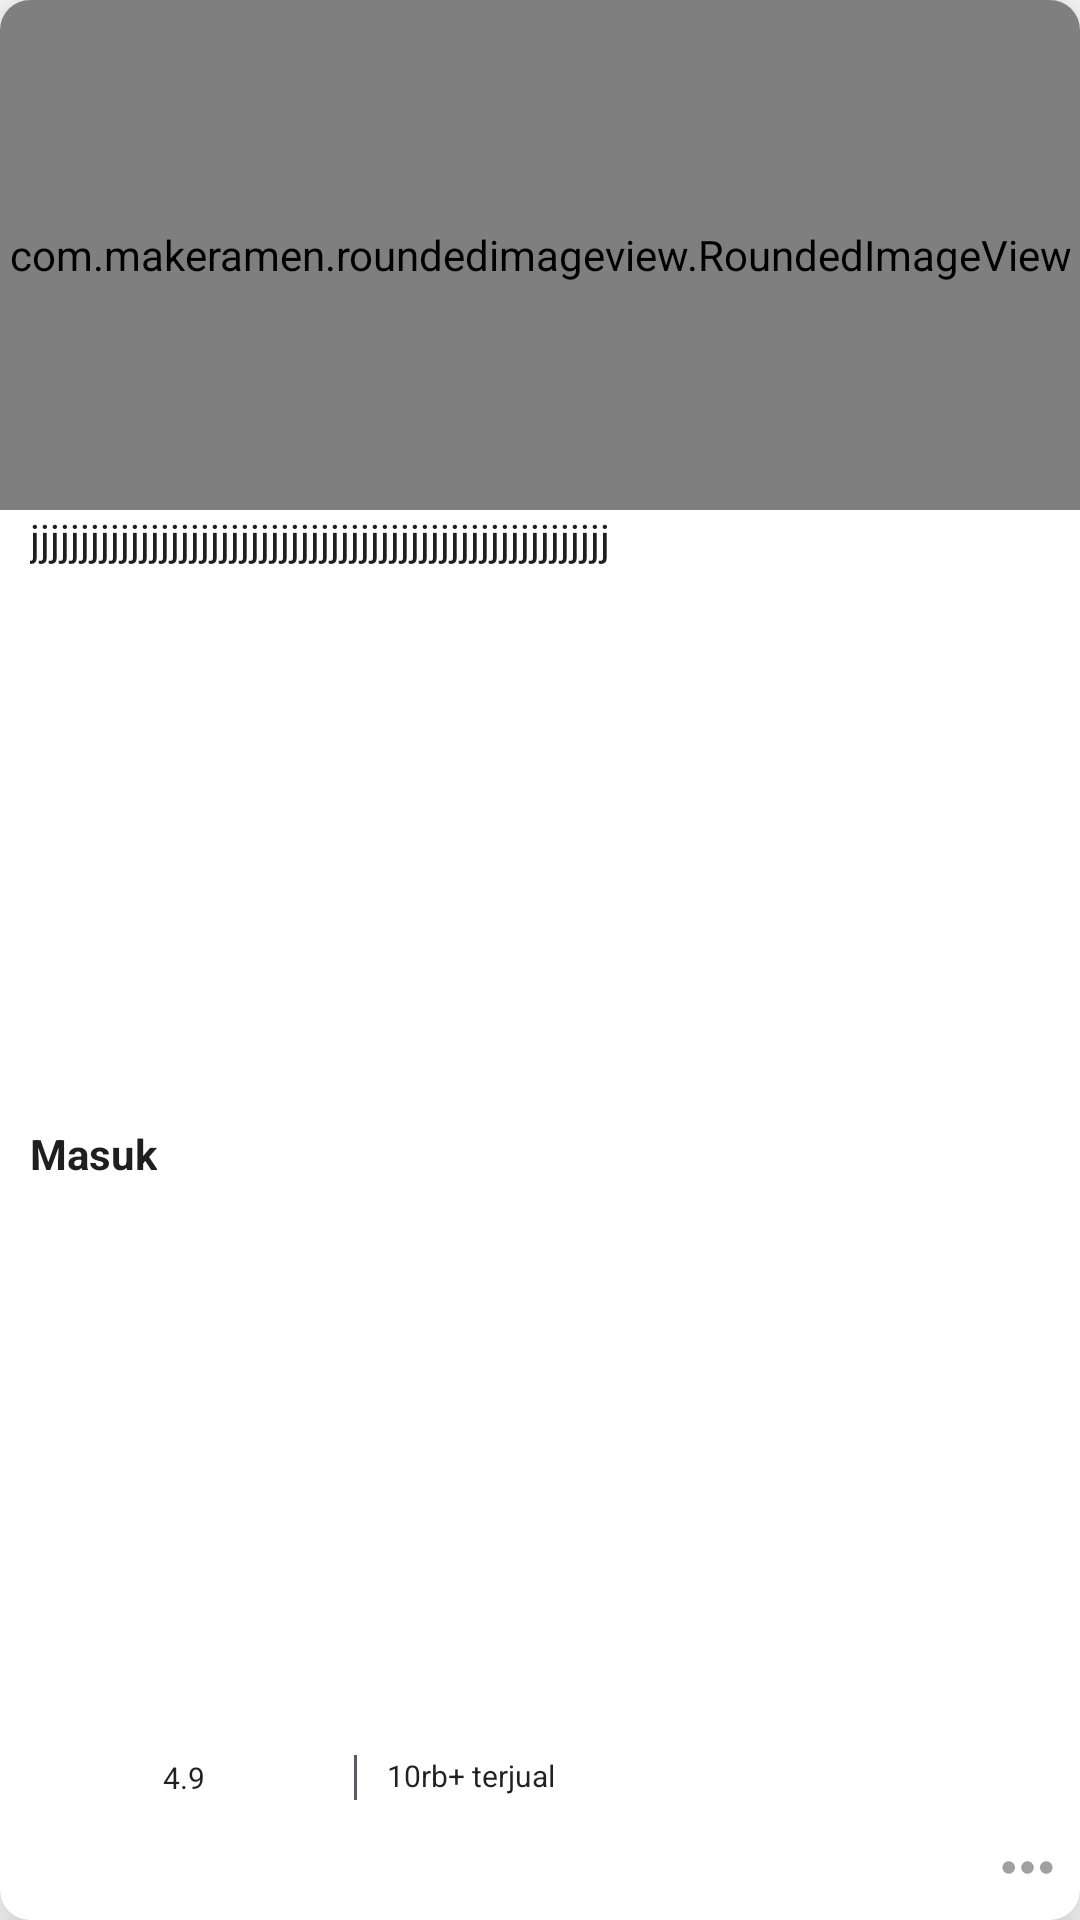

Icons on this 1080 × 1920 Android screen, each with the point to tap as (x=x, y=y):
more horiz: (x=1027, y=1867)
